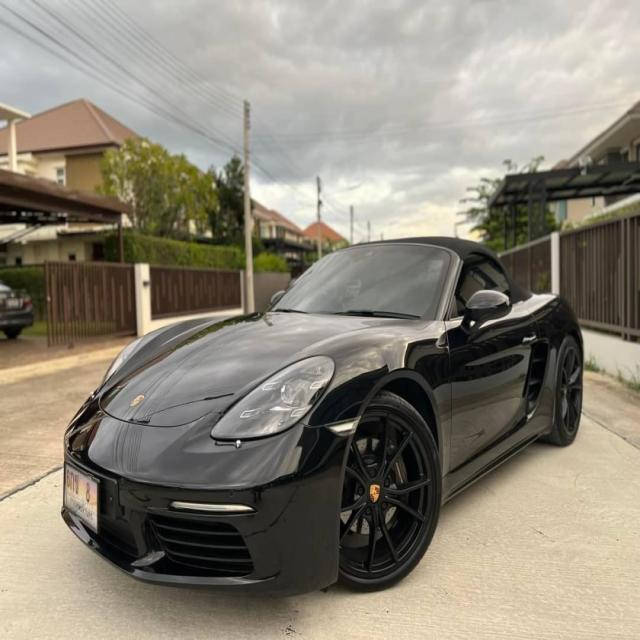license_plate: (56, 456, 107, 542)
